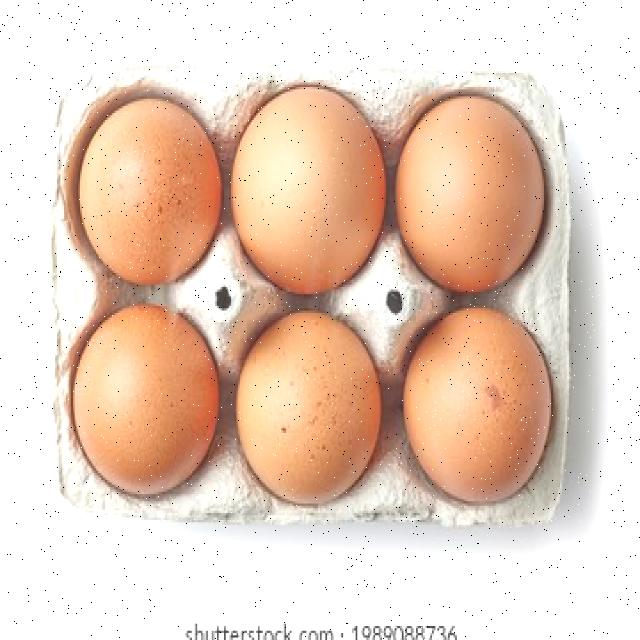Brown Egg: (390, 286, 558, 512), (231, 292, 392, 521), (61, 293, 223, 519), (52, 92, 222, 290), (398, 83, 548, 302), (228, 80, 377, 297)
